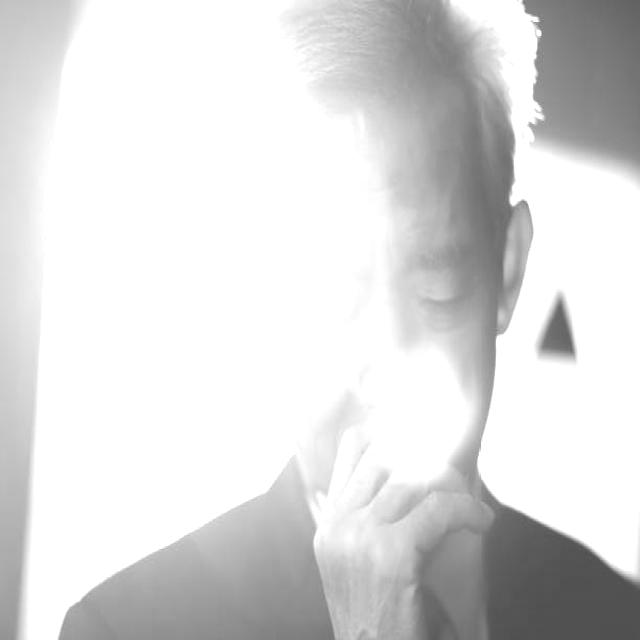real: (274, 247, 500, 369)
